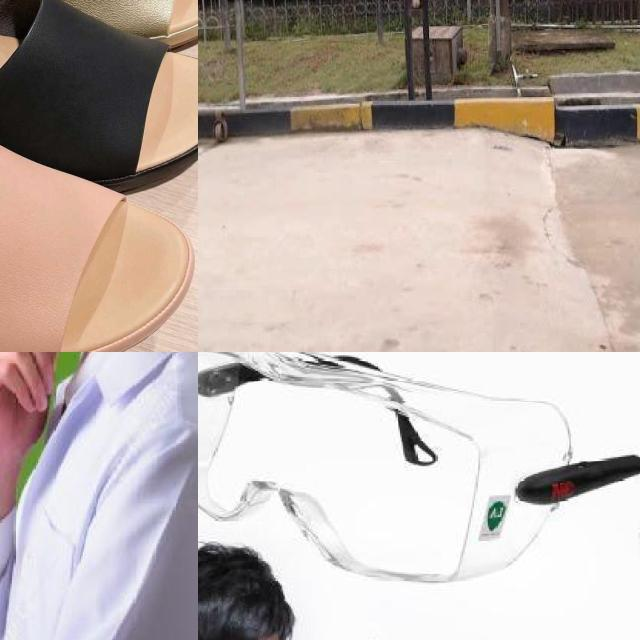Sandals: (0, 53, 198, 352)
hand_noglove: (0, 352, 71, 449)
head_nohelmet: (198, 545, 291, 640)
person: (0, 352, 198, 640), (198, 555, 386, 640)
